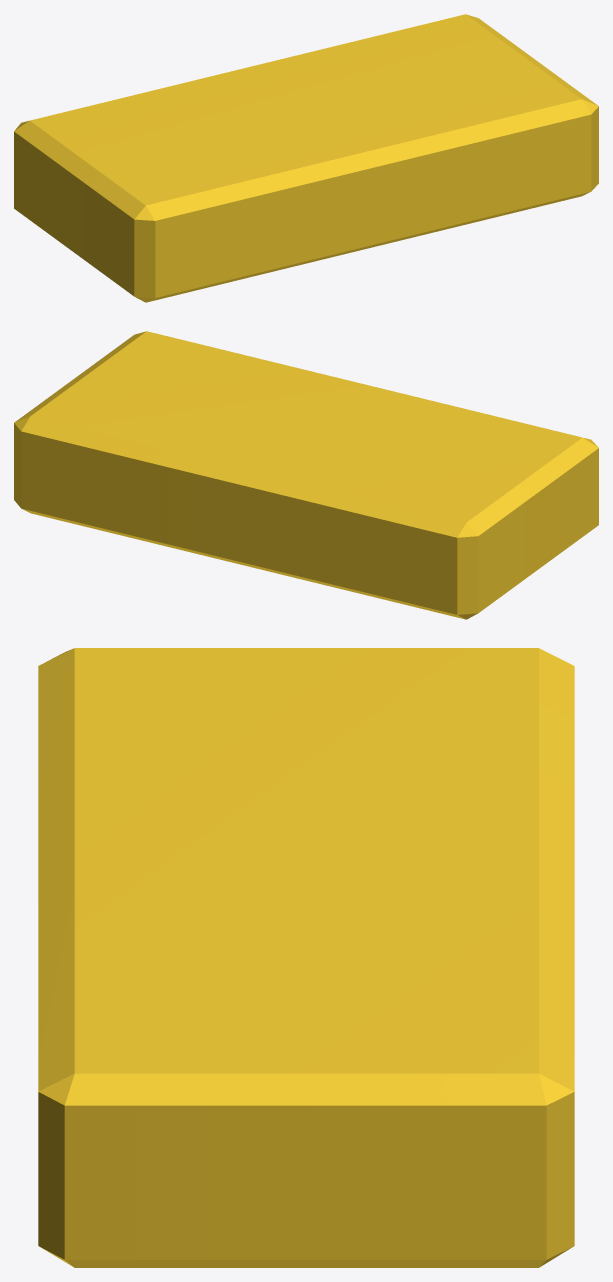
File: waist.obj
3 renders of one model, top to bottom at view 1: azimuth 30°, elevation 25°; view 2: azimuth 150°, elevation 25°; view 3: azimuth 270°, elevation 25°, orthographic. The views are drawn at different scales.
Parts seen in each view (by area): view 1: Onett2; view 2: Onett2; view 3: Onett2.
Part boxes in pixels (x1,y1,x2,y2): Onett2: (14, 14, 598, 302); Onett2: (14, 331, 598, 619); Onett2: (38, 648, 574, 1267).
Size of the model in its own units: 2 by 0.4 by 1.
1 material, 1 textured.
